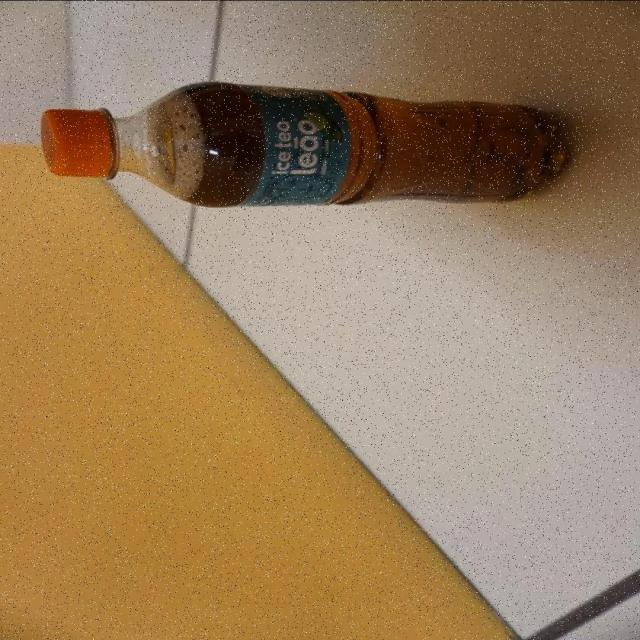IceTea: (41, 80, 572, 210)
